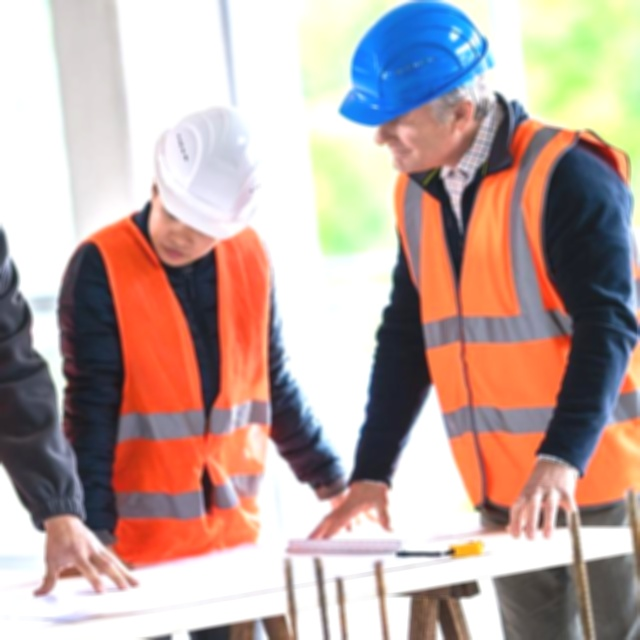Con_Casco: (340, 2, 494, 173), (151, 104, 267, 261)
Con_Chaleco: (409, 126, 637, 508), (76, 215, 276, 548)
